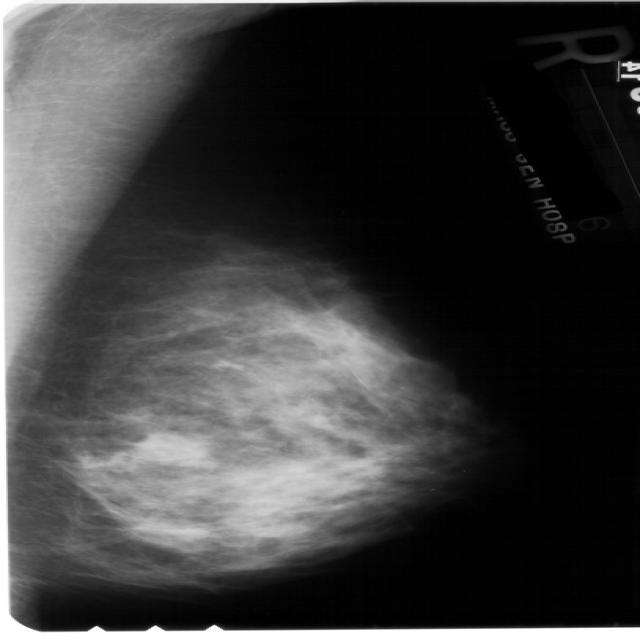tumour: (130, 431, 203, 464)
